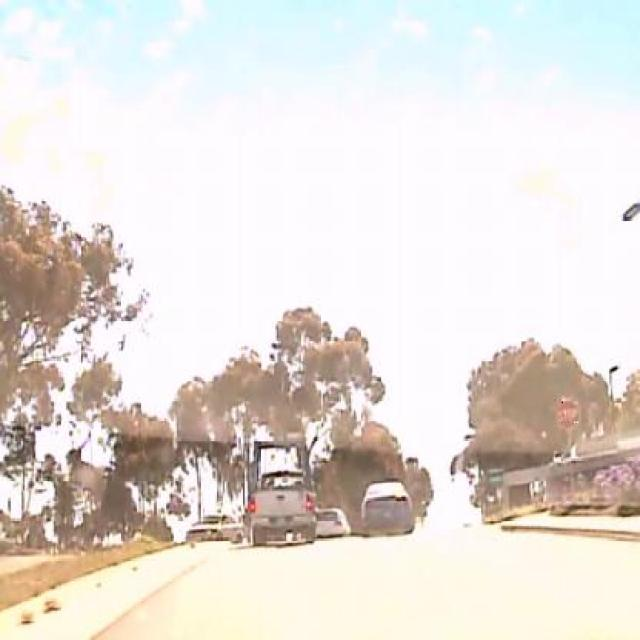stop: (557, 397, 580, 430)
